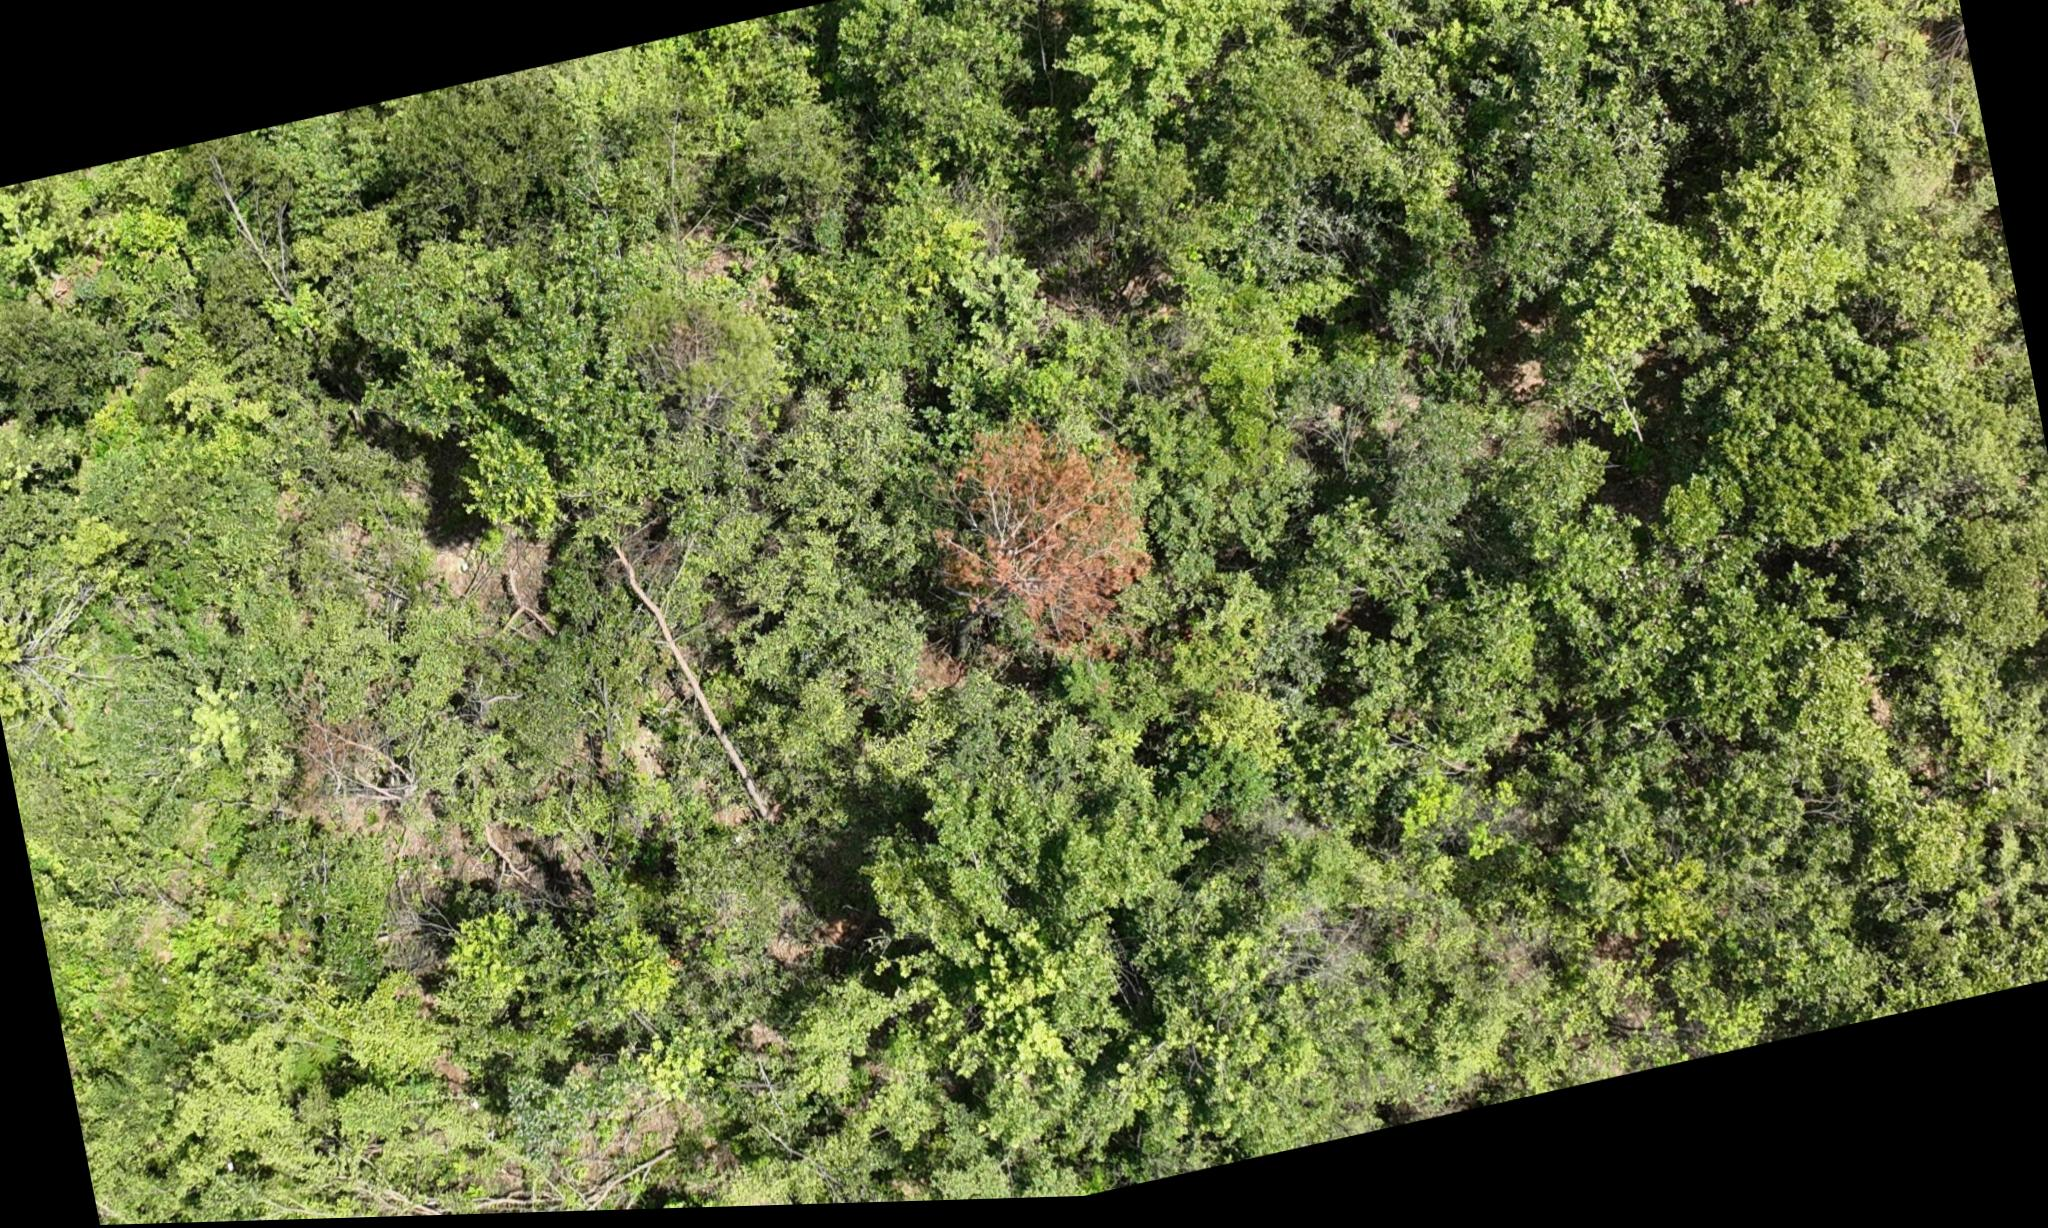heavy: (905, 403, 1187, 699)
